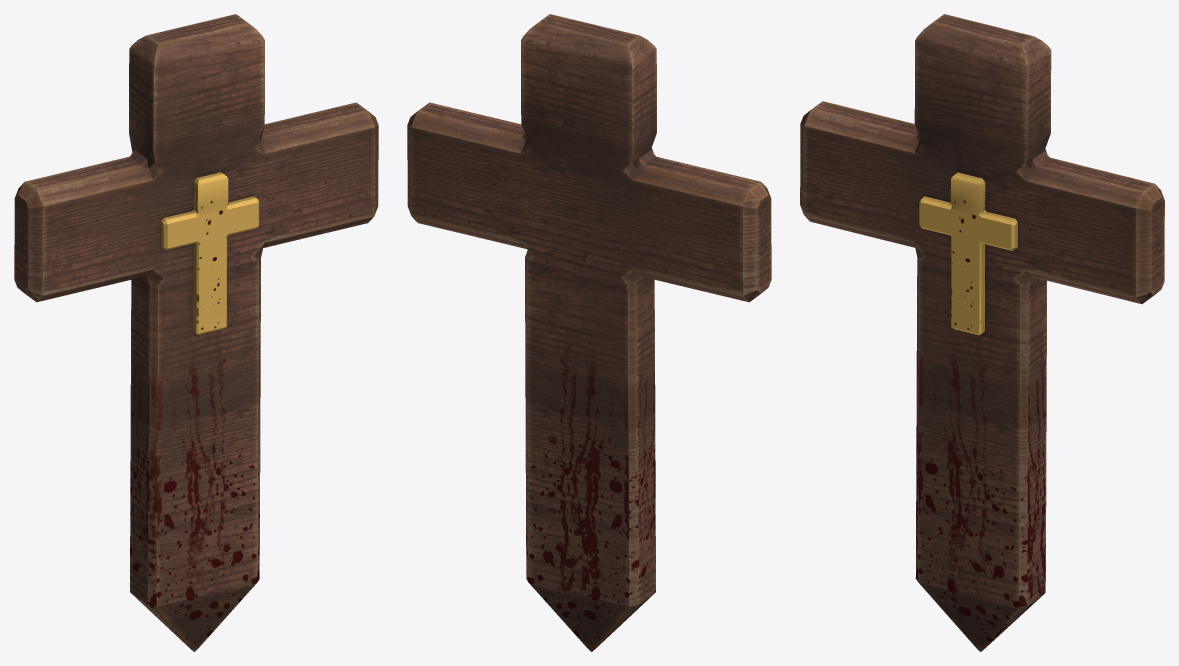
The model's file is holy_cross.glb.
3 views of the same model, side by side, from view 1: azimuth 30°, elevation 25°; view 2: azimuth 150°, elevation 25°; view 3: azimuth 330°, elevation 25° (orthographic).
Parts seen in each view (by area): view 1: Object_2; view 2: Object_2; view 3: Object_2.
Part boxes in pixels (x1,y1,x2,y2): Object_2: (14, 14, 378, 651); Object_2: (407, 14, 771, 651); Object_2: (800, 14, 1164, 651).
Size of the model in its own units: 27 by 45.82 by 3.84.
Materials: 1 (1 with a texture image).
